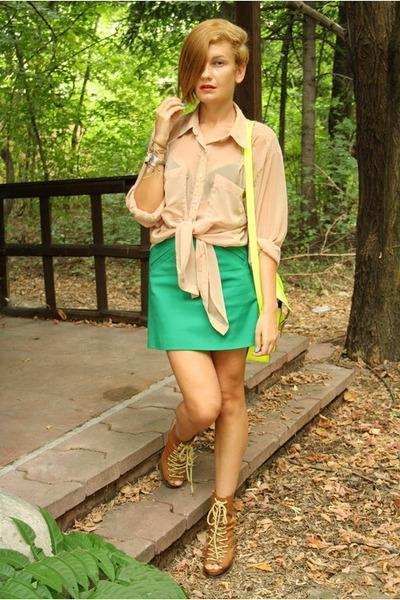bag: (246, 332, 274, 362)
shirt: (125, 108, 287, 334)
shoe: (154, 445, 244, 581)
skirt: (147, 237, 259, 353)
